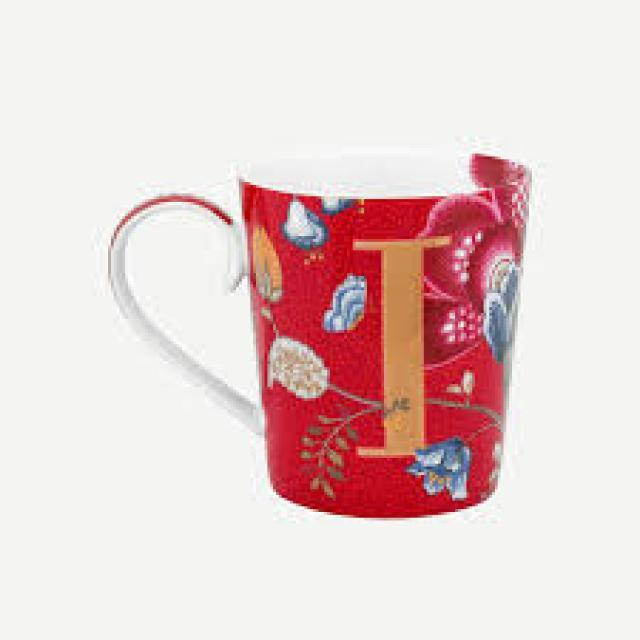taza: (104, 146, 534, 521)
